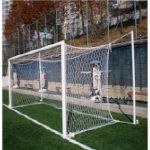goals: (6, 40, 119, 138)
